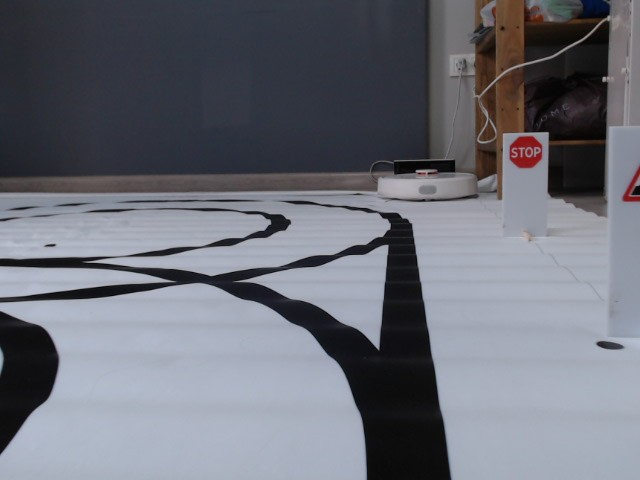Stop: (509, 136, 543, 169)
